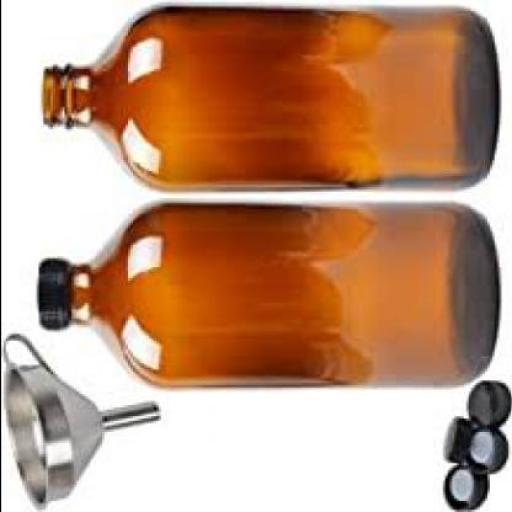glass: (40, 5, 495, 187), (64, 198, 496, 385)
metal: (1, 328, 158, 506)
plastic: (440, 461, 486, 510), (36, 256, 68, 325), (460, 425, 505, 472), (465, 381, 507, 423), (442, 416, 465, 463)
